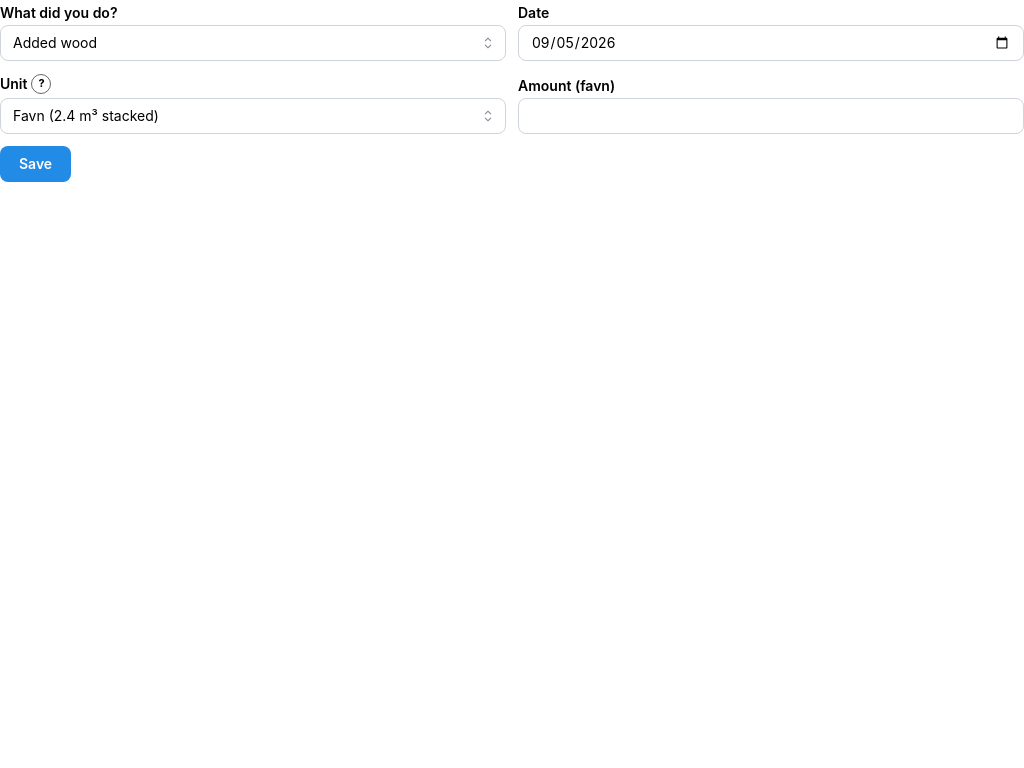
Test: VolumeEntryForm in English › explains the units in English
Click the button named "favn, stacked": point(42, 84) [32,74,52,94]
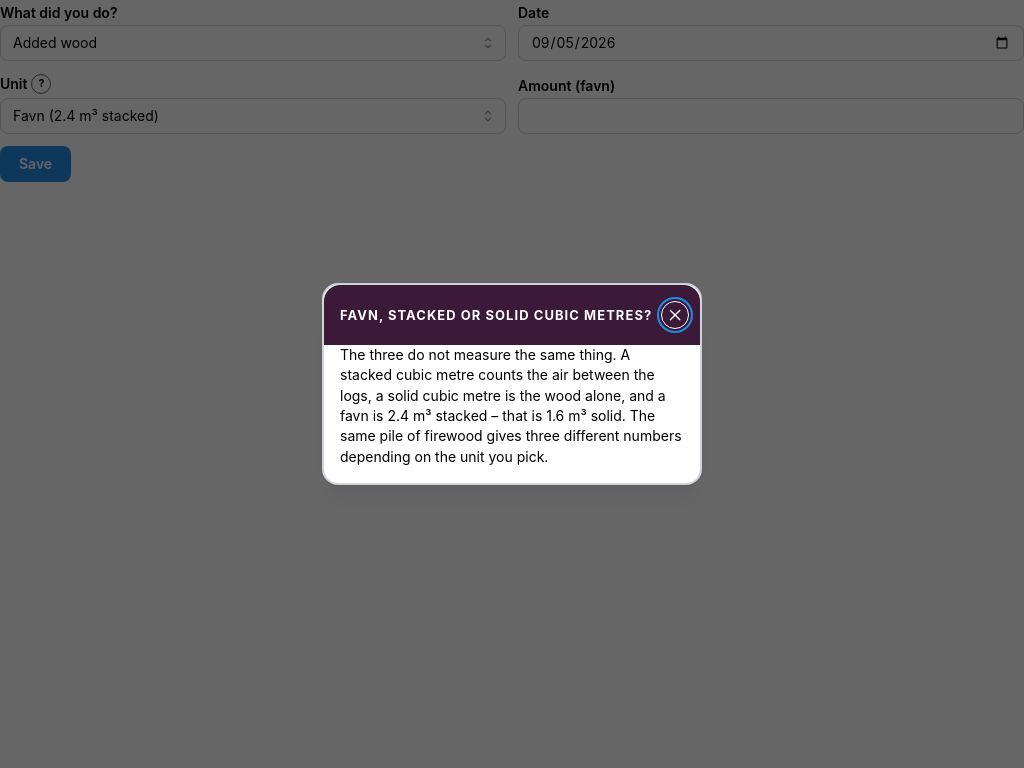
Expected: the text "air between the logs" is shown, [340,346,682,465]
